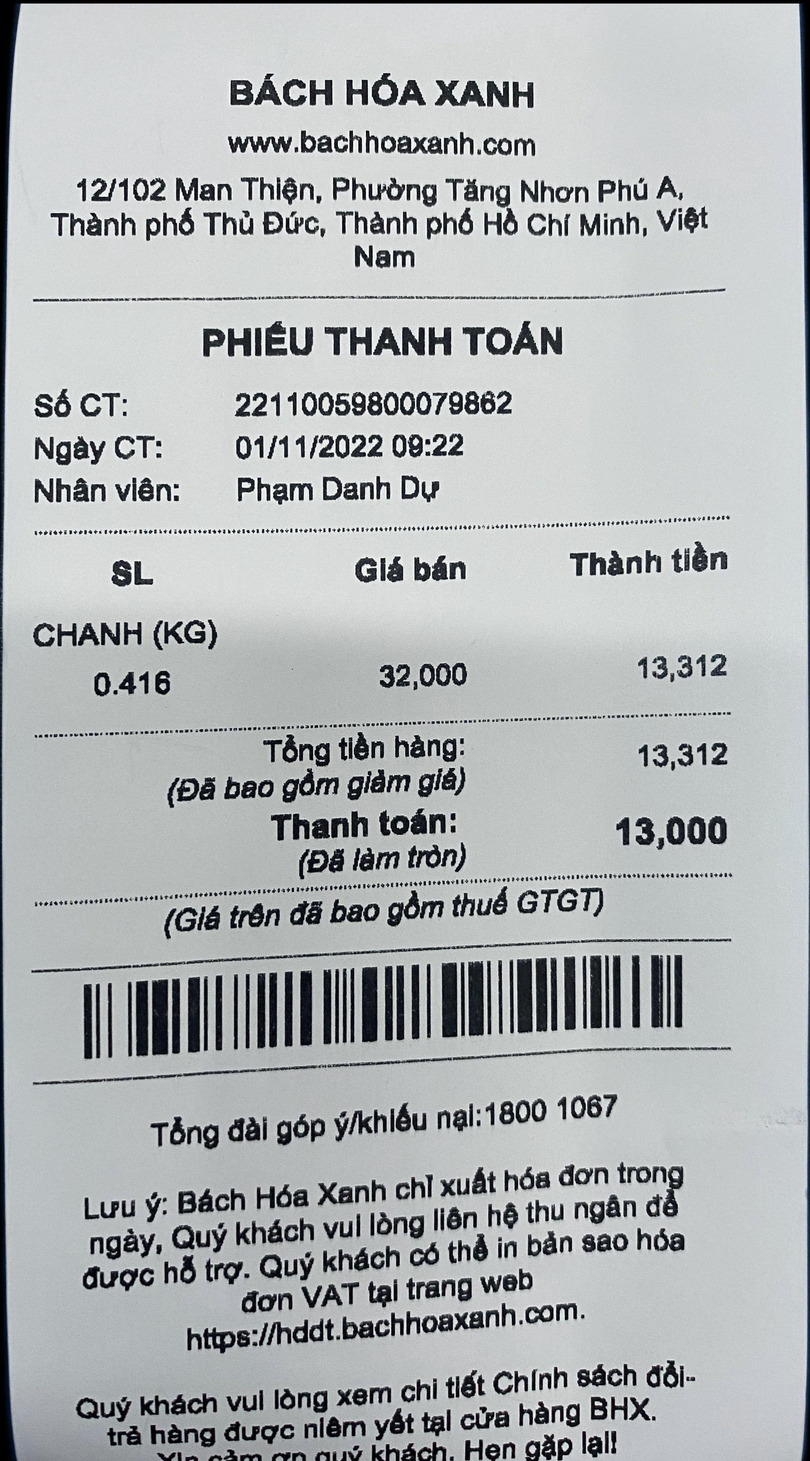Date: (208, 428, 388, 471)
Store_Name: (197, 53, 559, 132)
Total_Amount: (14, 720, 752, 775)
